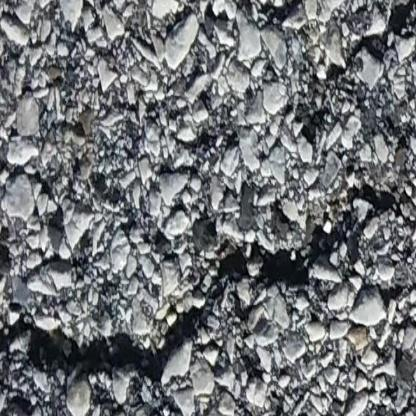Cracks: (0, 180, 416, 386), (307, 0, 416, 150)
